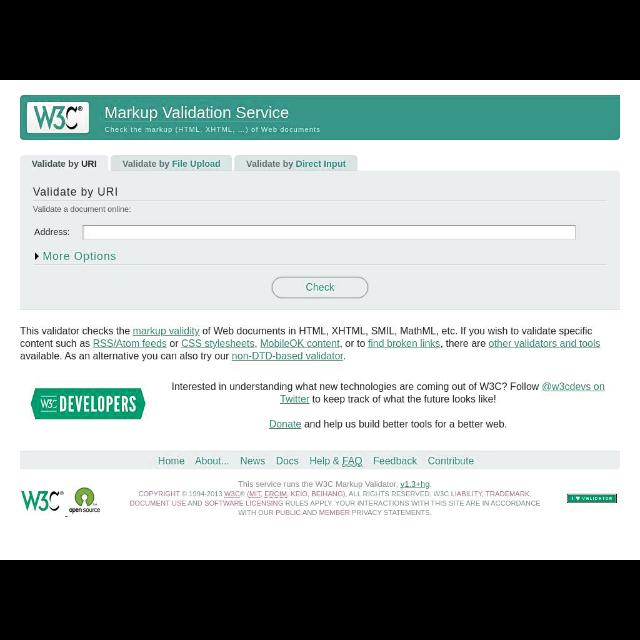icon: (34, 252, 38, 260)
image: (30, 387, 146, 419), (27, 101, 89, 135), (20, 488, 66, 514), (70, 486, 102, 514), (566, 492, 618, 503)
input: (80, 224, 576, 240)
link: (486, 339, 602, 349), (230, 351, 346, 361), (308, 448, 362, 468), (426, 450, 476, 470), (370, 450, 418, 470), (260, 338, 340, 349), (130, 324, 198, 336), (92, 338, 166, 348), (181, 338, 255, 348), (366, 339, 444, 348), (194, 450, 232, 468), (540, 383, 606, 393), (239, 450, 267, 468), (274, 451, 302, 469), (296, 158, 346, 168), (156, 451, 187, 467), (267, 418, 303, 430), (172, 160, 220, 168), (280, 395, 310, 405), (401, 481, 432, 489)
multitab: (20, 156, 358, 170)
spinner: (30, 248, 116, 262)
text: (21, 323, 601, 362), (130, 480, 542, 518), (174, 380, 608, 406), (104, 103, 290, 123), (105, 122, 322, 136), (267, 418, 509, 430), (29, 184, 121, 198), (31, 205, 131, 215), (42, 251, 118, 261), (30, 159, 98, 167), (121, 158, 170, 168), (246, 158, 294, 168), (32, 228, 72, 238), (304, 284, 334, 292)
textbutton: (272, 278, 368, 298), (233, 156, 359, 170), (121, 155, 222, 169), (20, 156, 109, 170)
